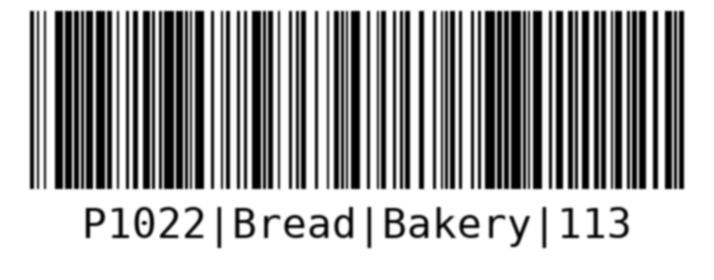milk: (26, 7, 692, 255)
